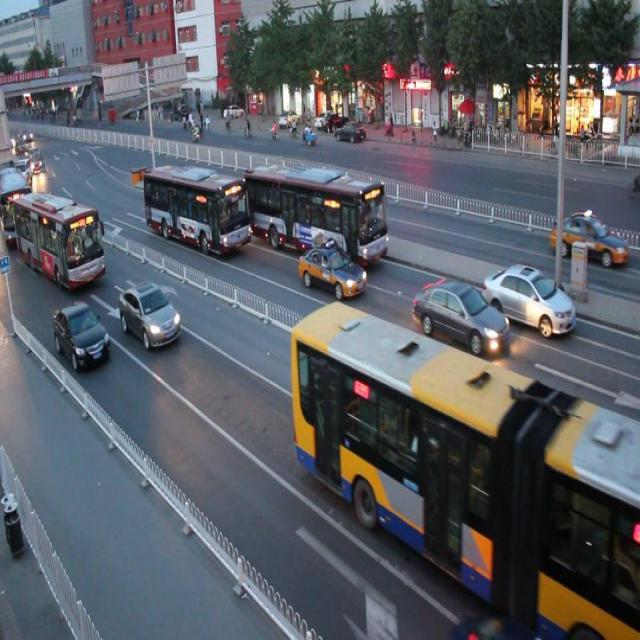BigCar: (288, 294, 640, 640), (246, 156, 389, 267), (14, 179, 105, 300), (144, 152, 234, 269)
car: (24, 280, 113, 385), (479, 259, 576, 345), (418, 276, 495, 363), (289, 237, 373, 306), (124, 276, 169, 350)
